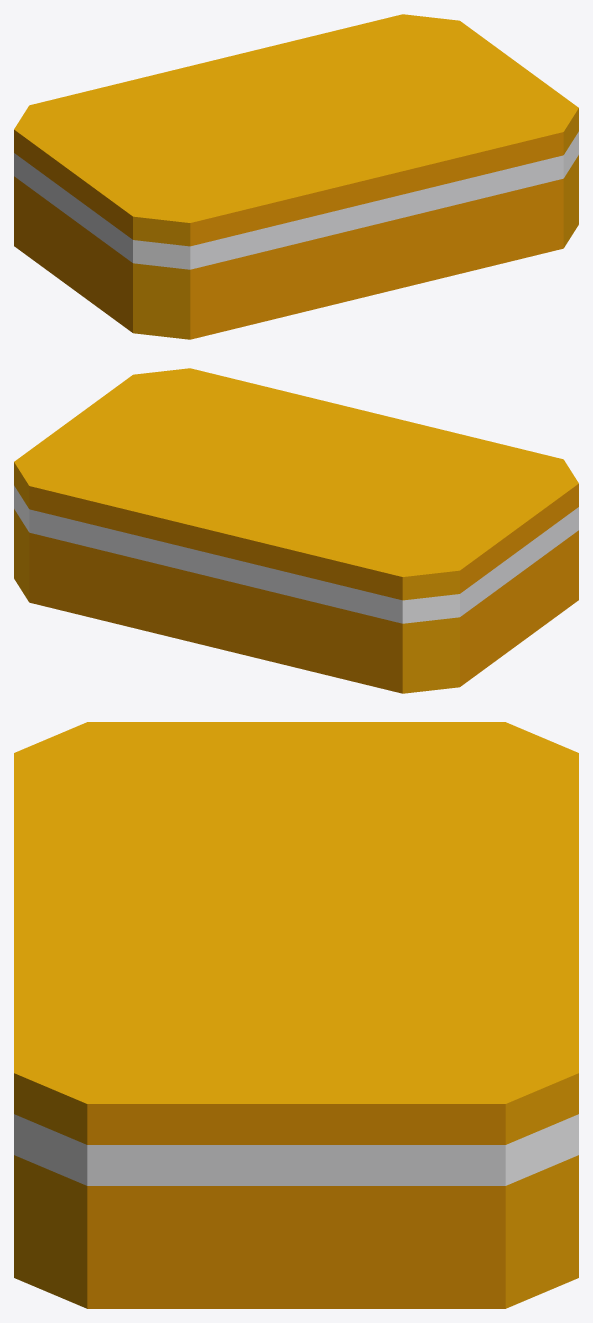
Rendered from NF_Belt_Taker_IN.fbx.
The picture shows the model from 3 angles, top to bottom: view 1: azimuth 30°, elevation 25°; view 2: azimuth 150°, elevation 25°; view 3: azimuth 270°, elevation 25°; orthographic projection. The views are drawn at different scales.
Visible parts, largest first — view 1: NF_Belt_Taker_IN; view 2: NF_Belt_Taker_IN; view 3: NF_Belt_Taker_IN.
Boxes of the visible parts, left/top/right/bottom form: NF_Belt_Taker_IN: left=14, top=14, right=578, bottom=339; NF_Belt_Taker_IN: left=14, top=368, right=578, bottom=693; NF_Belt_Taker_IN: left=14, top=722, right=578, bottom=1308.
Bounding box in the file's own units: 2 × 0.5 × 1.25.
